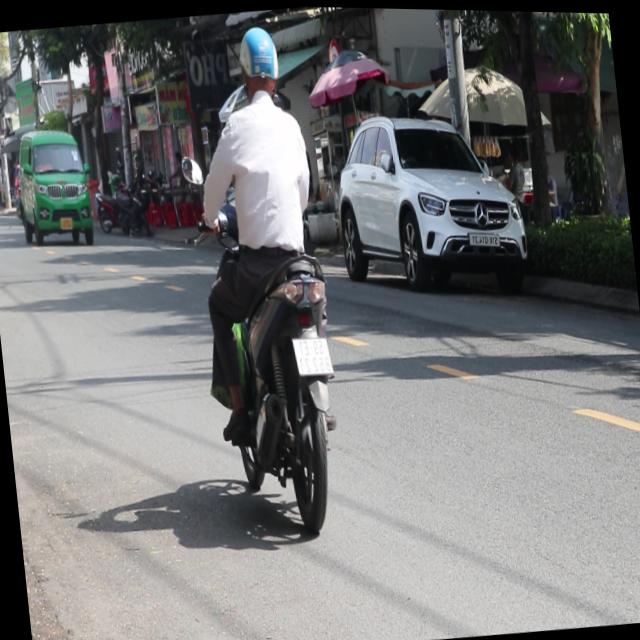helmet: (234, 20, 284, 103)
licenseplate: (170, 13, 359, 539)
nohelmet: (293, 333, 333, 374)
